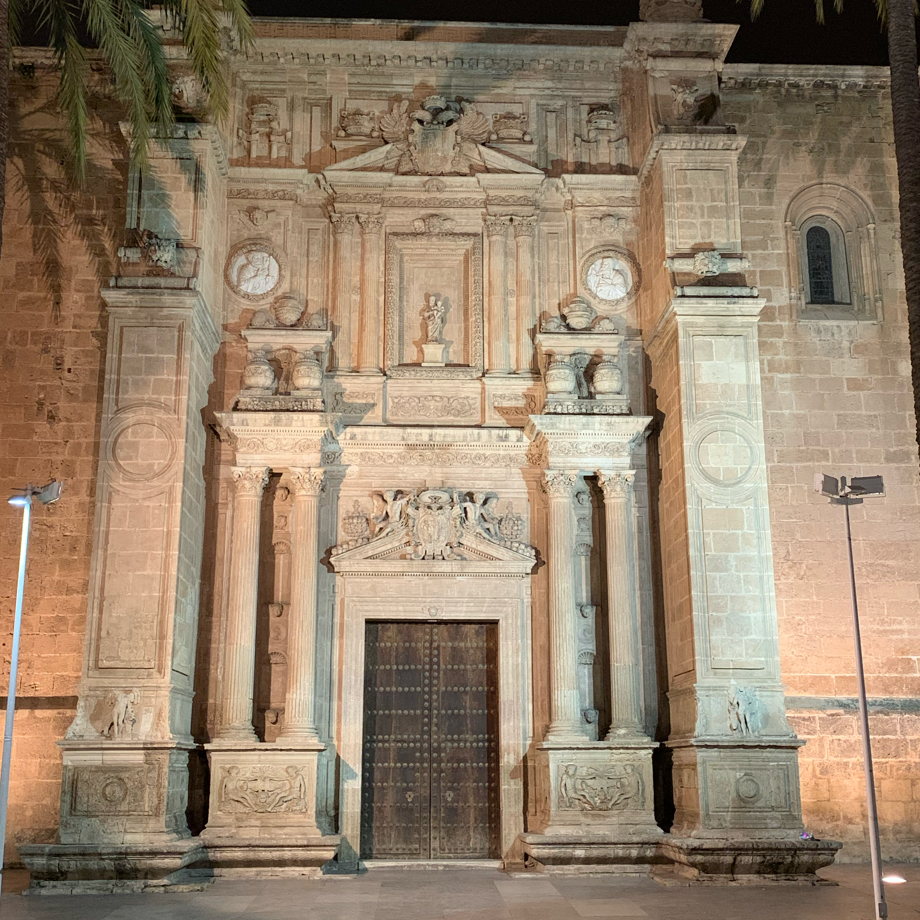arco-medio-punto: (783, 179, 879, 241)
fronton: (327, 525, 538, 578)
fronton-partido: (324, 131, 538, 186)
vano-adintelado: (336, 593, 521, 866), (384, 231, 484, 378)
